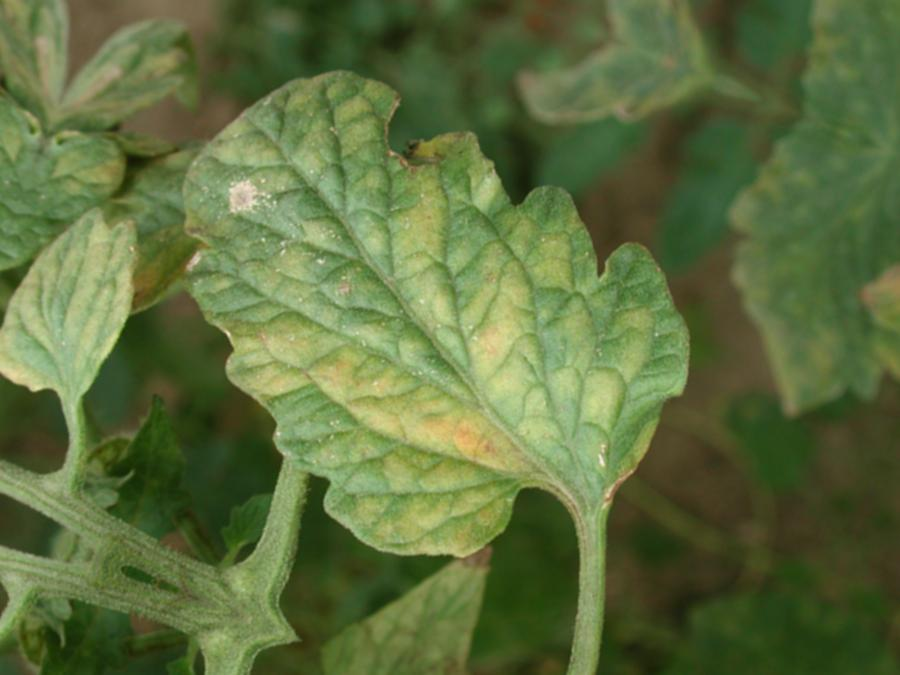Tomato mold leaf: (70, 0, 760, 634), (0, 167, 181, 420)
